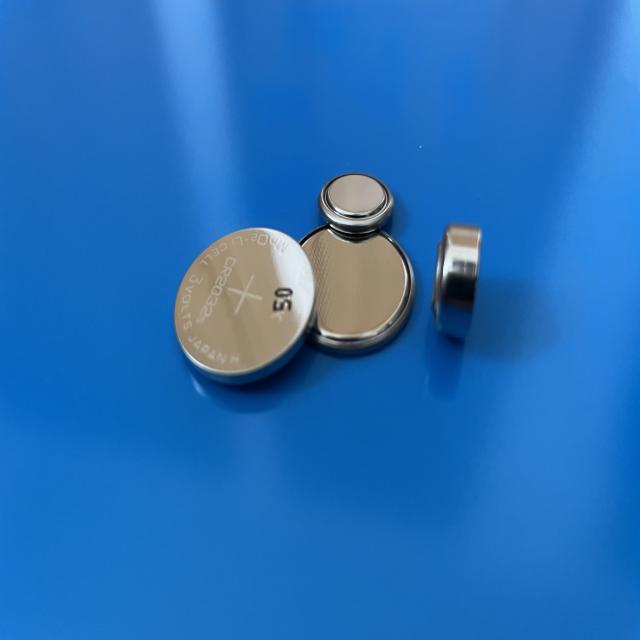COIN: (172, 224, 316, 389), (292, 218, 419, 366), (428, 218, 490, 346), (313, 168, 398, 238)
